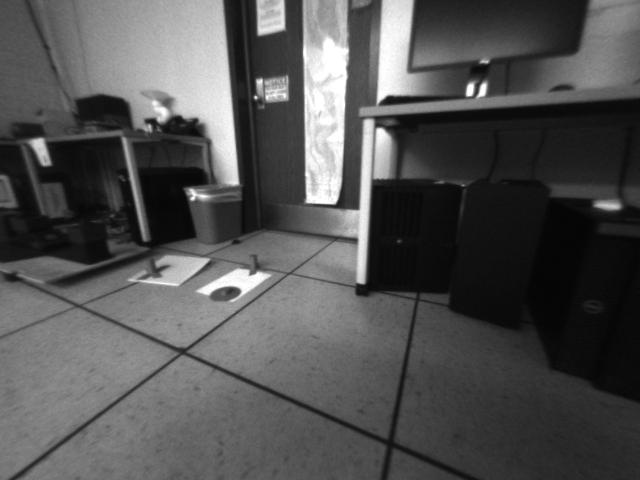X: (135, 258, 171, 279), (237, 253, 264, 274)
